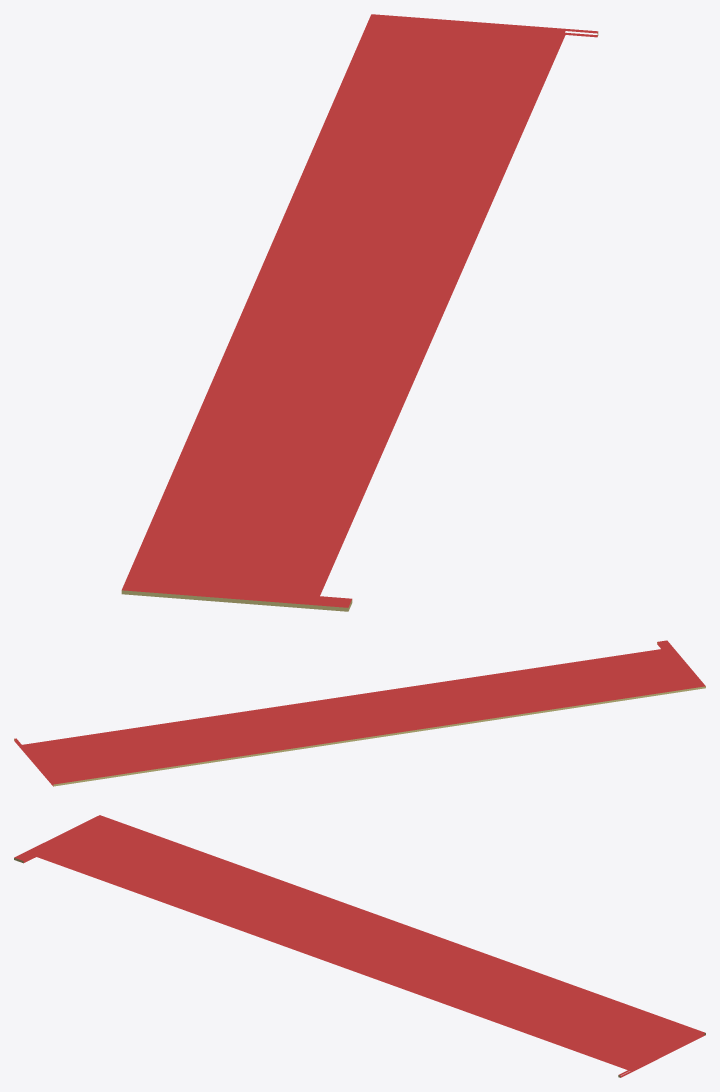
The picture shows the model from 3 angles, top to bottom: view 1: azimuth 30°, elevation 25°; view 2: azimuth 150°, elevation 25°; view 3: azimuth 270°, elevation 25°; orthographic projection. The views are drawn at different scales.
Size of the model in its own units: 24.73 by 27.74 by 0.1.
